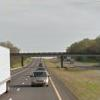Car: (26, 66, 50, 88)
